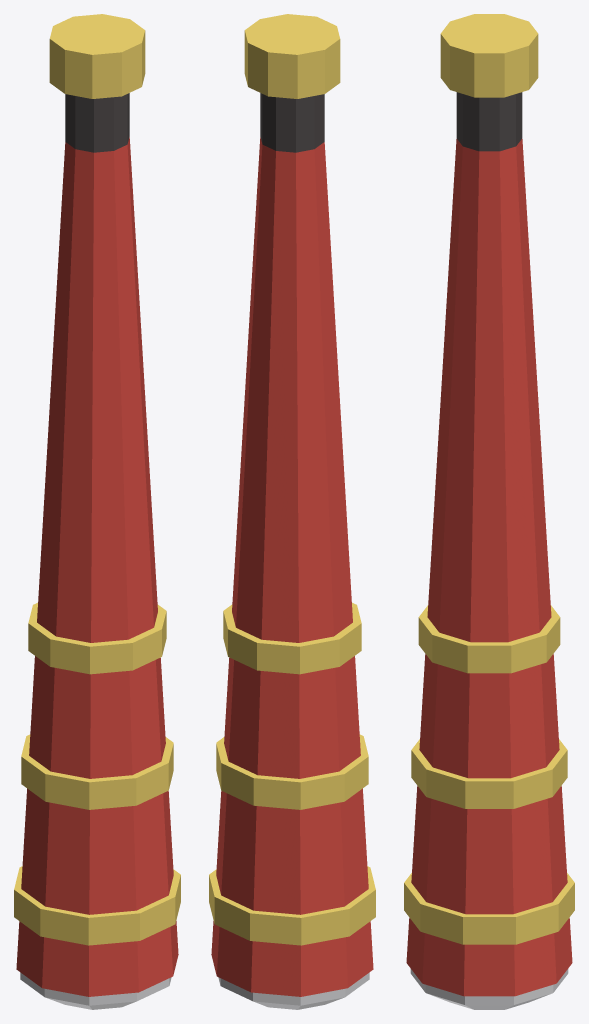
File: bat_super.glb
3 renders of one model, left to right at view 1: azimuth 30°, elevation 25°; view 2: azimuth 150°, elevation 25°; view 3: azimuth 270°, elevation 25°, orthographic.
Parts seen in each view (by area): view 1: bat_super; view 2: bat_super; view 3: bat_super.
Part boxes in pixels (x1,y1,x2,y2): bat_super: (14, 14, 180, 1009); bat_super: (209, 14, 375, 1009); bat_super: (404, 14, 574, 1009).
Size of the model in its own units: 0.1331 by 0.8706 by 0.14.
